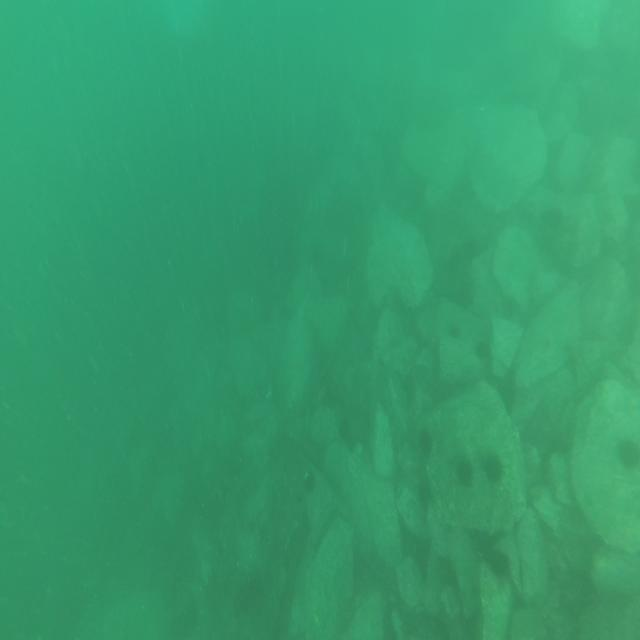echinus: (615, 428, 640, 474), (488, 546, 515, 582), (481, 452, 504, 492), (457, 451, 475, 490), (415, 428, 435, 458), (474, 334, 491, 364), (301, 467, 317, 496), (444, 318, 460, 345)
